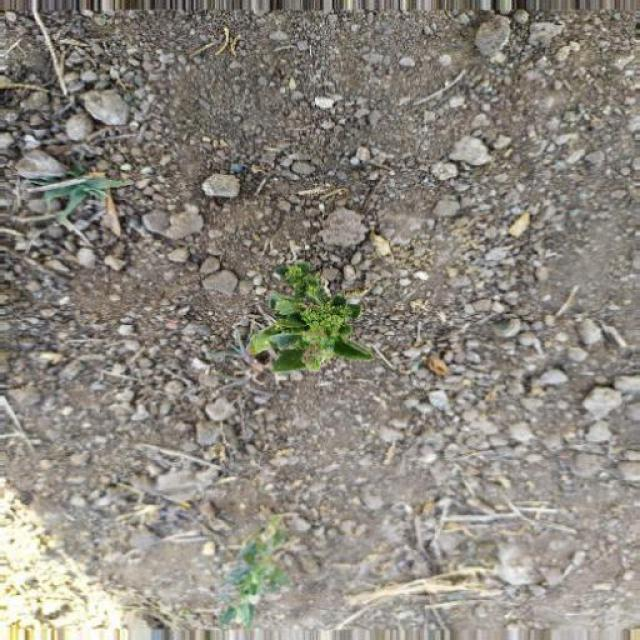weed: (256, 265, 358, 367)
